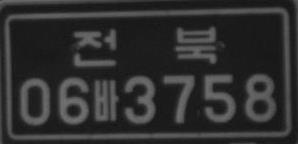0: (18, 76, 50, 126)
3: (124, 74, 156, 124)
5: (203, 73, 236, 123)
6: (57, 76, 88, 124)
7: (162, 74, 195, 123)
8: (244, 72, 276, 122)
바: (92, 79, 118, 122)
전북_D: (72, 23, 216, 65)
